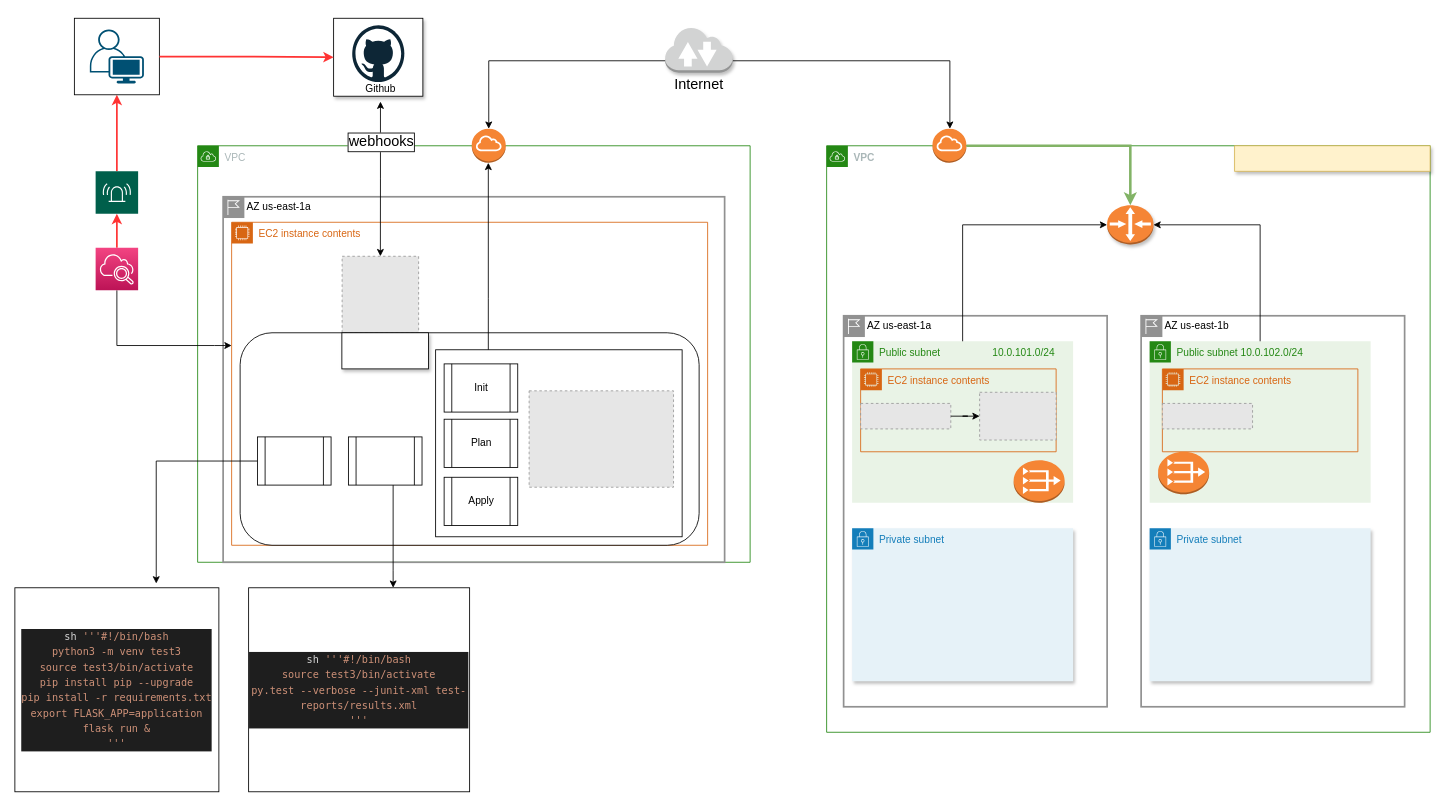
This 1450x807 diagram has some shape labels left out. Grey dashed boxes stand in for pictures. The shapes that lost their labels are listed below. From the top down, each one's centre as x and y in pixels, then its label:
At pixel 1332 159: "VPC CIDR 10.0.0.0/16".
At pixel 386 352: "Jenkins Master".
At pixel 294 460: "Build".
At pixel 385 460: "Test".
